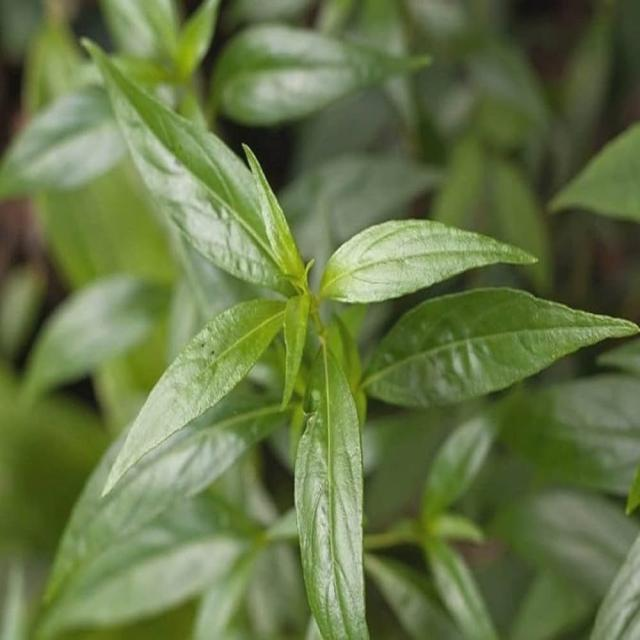Chirata: (100, 10, 567, 531)
